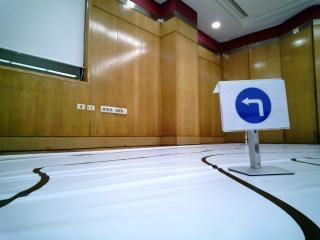left: (217, 84, 291, 126)
